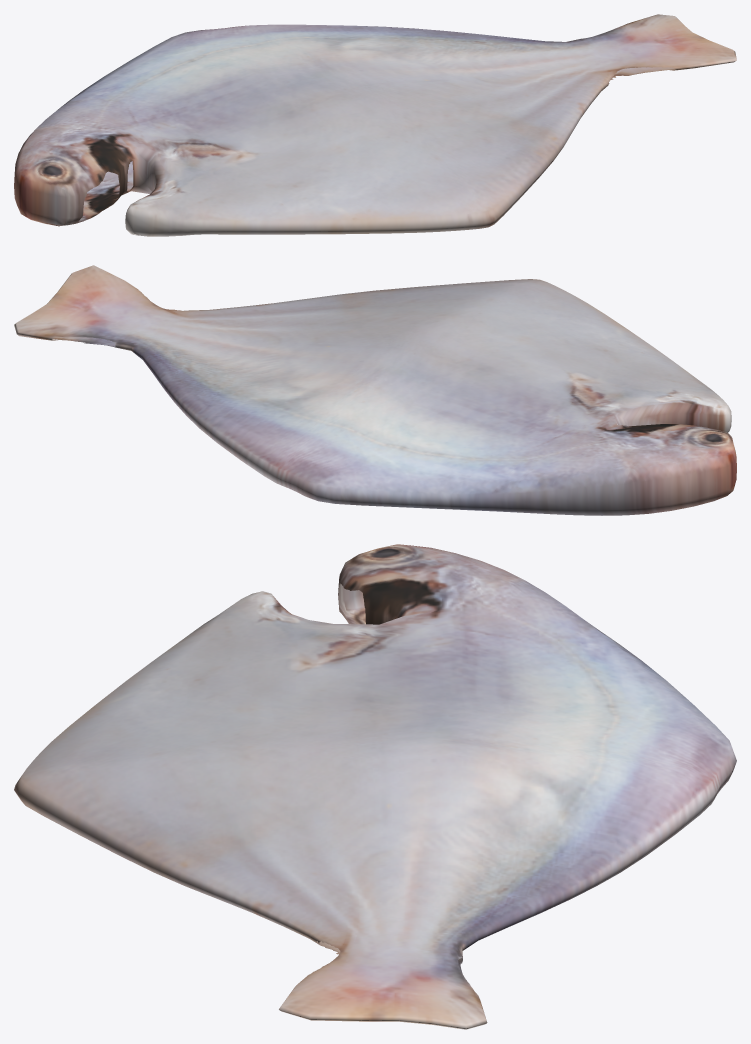
The model's file is avoli 1.fbx.
3 views of the same model, one above another, from view 1: azimuth 30°, elevation 25°; view 2: azimuth 150°, elevation 25°; view 3: azimuth 270°, elevation 25° (orthographic). The views are drawn at different scales.
Parts seen in each view (by area): view 1: Cube; view 2: Cube; view 3: Cube.
Boxes of the visible parts, x1,y1,x2,y2 form: Cube: (14,14,736,236); Cube: (14,265,736,515); Cube: (14,544,736,1029).
Size of the model in its own units: 413 by 42.05 by 277.
